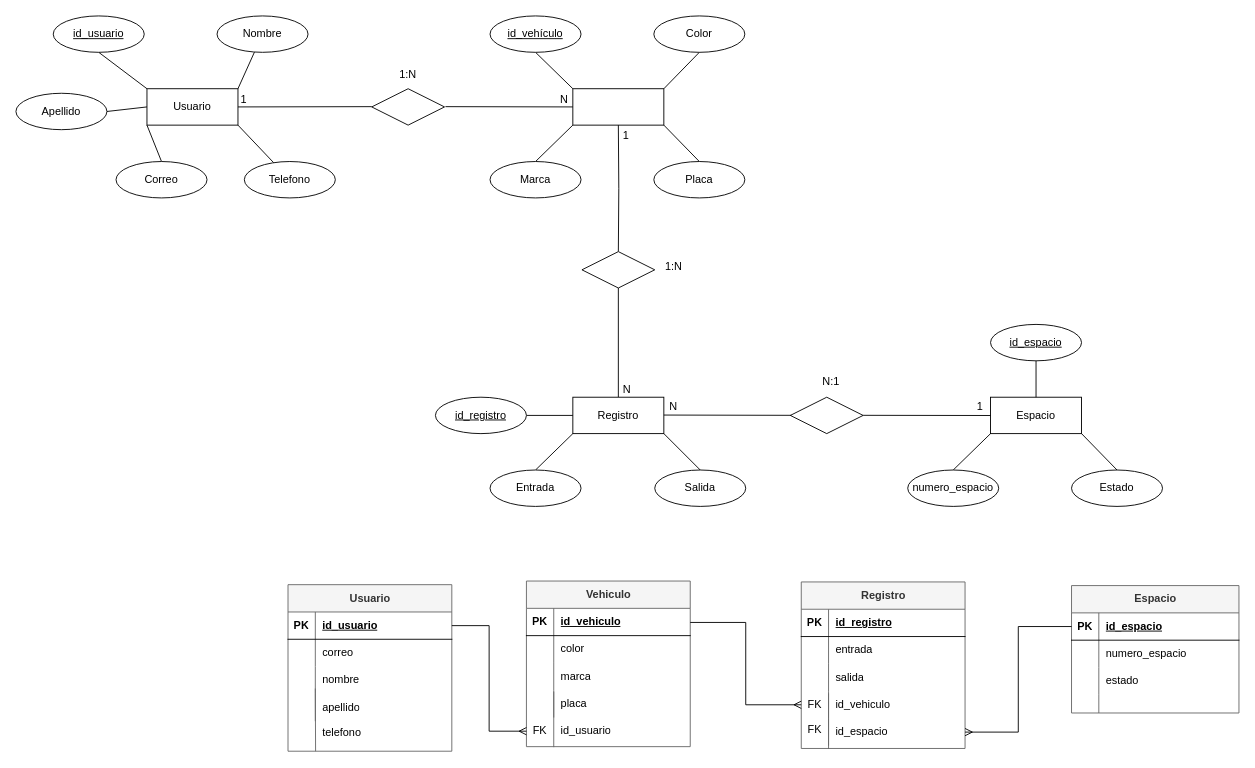
Image size: 1255x768. Some labels were removed from this diagram. The shapes that lost their labels are listed below. From the top down, each one's box as (x1, y1, x2, y2) in pixels, then its label:
(371, 88, 445, 125): registra
(572, 88, 664, 125): Vehículo
(581, 251, 655, 288): genera
(789, 396, 863, 434): utiliza
